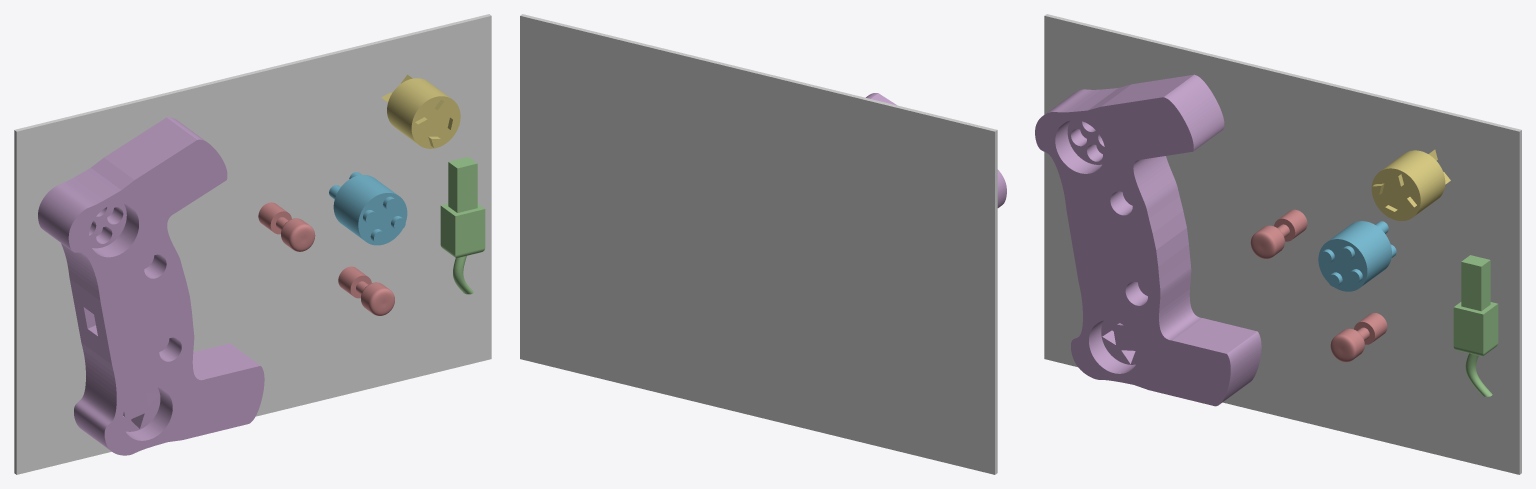
The model's file is pickup_layout.glb.
3 renders of one model, left to right at view 1: azimuth 30°, elevation 25°; view 2: azimuth 150°, elevation 25°; view 3: azimuth 330°, elevation 25°, orthographic.
Visible parts, largest first — view 1: world, 3.obj, 4.obj, 2.obj, 1.obj, 5.obj, 0.obj; view 2: world; view 3: world, 3.obj, 4.obj, 2.obj, 1.obj, 0.obj, 5.obj.
Part boxes in pixels (box(x1,y1,x2,y2)): world: box(14, 14, 491, 474); 3.obj: box(38, 117, 264, 455); 4.obj: box(440, 157, 485, 294); 2.obj: box(329, 172, 407, 245); 1.obj: box(381, 74, 460, 148); 5.obj: box(258, 202, 315, 251); 0.obj: box(338, 266, 394, 315); world: box(520, 14, 997, 474); world: box(1044, 14, 1521, 474); 3.obj: box(1035, 74, 1261, 406); 4.obj: box(1453, 255, 1498, 396); 2.obj: box(1318, 221, 1396, 291); 1.obj: box(1371, 149, 1450, 220); 0.obj: box(1330, 312, 1387, 362); 5.obj: box(1250, 209, 1307, 258).
Size of the model in its own units: 22.29 by 15.39 by 3.2.
